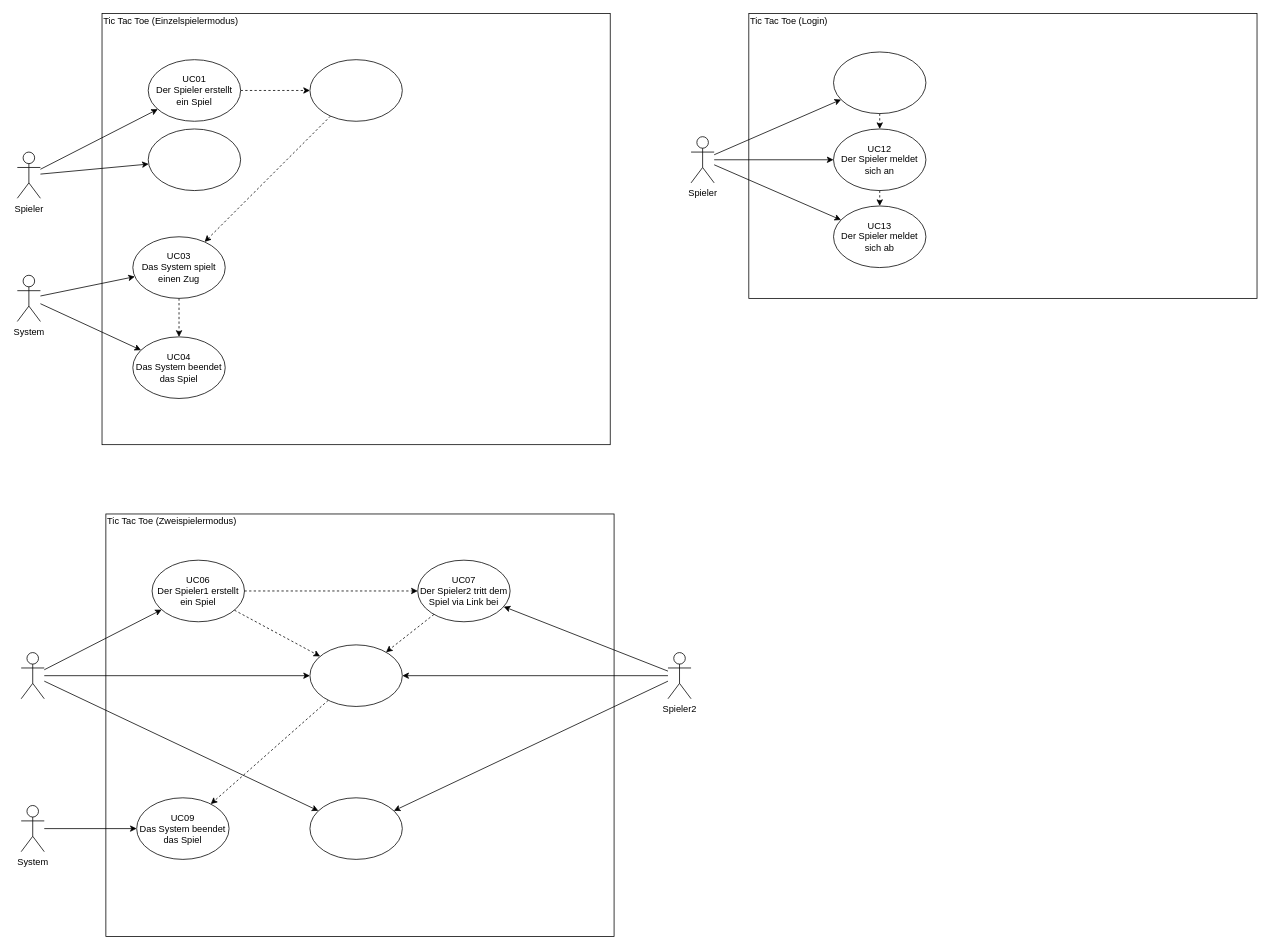
This 1271x950 diagram has some shape labels left out. The shapes that lost their labels are listed below. From the top down, each one's centre as x and y in pixels, then its label:
point 355,90: UC02 Der Spieler spielt einen Zug
point 879,82: UC11 Der Spieler registriert sich
point 194,159: UC05 Der Spieler schaut sich die früheren Ergebnisse an
point 32,675: Spieler1
point 355,675: UC08 Spieler1 und Spieler2 spielen abwechselnd bis einer gewonnen hat
point 355,828: UC10 Die Spieler schauen sich frühere Ergebnisse an
